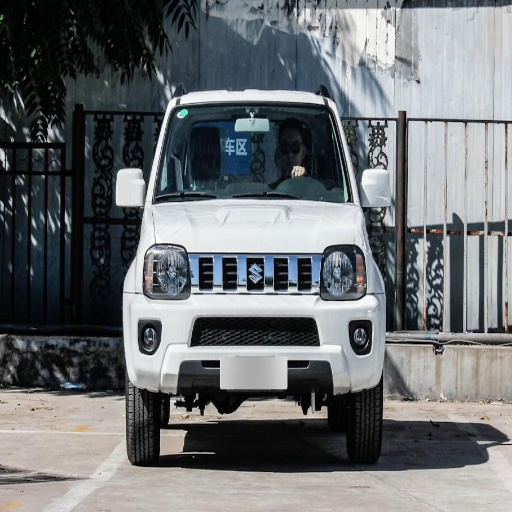front_bumper: (125, 252, 382, 392)
front_right_light: (133, 243, 192, 299)
hood: (151, 202, 357, 253)
left_mirror: (360, 167, 390, 209)
